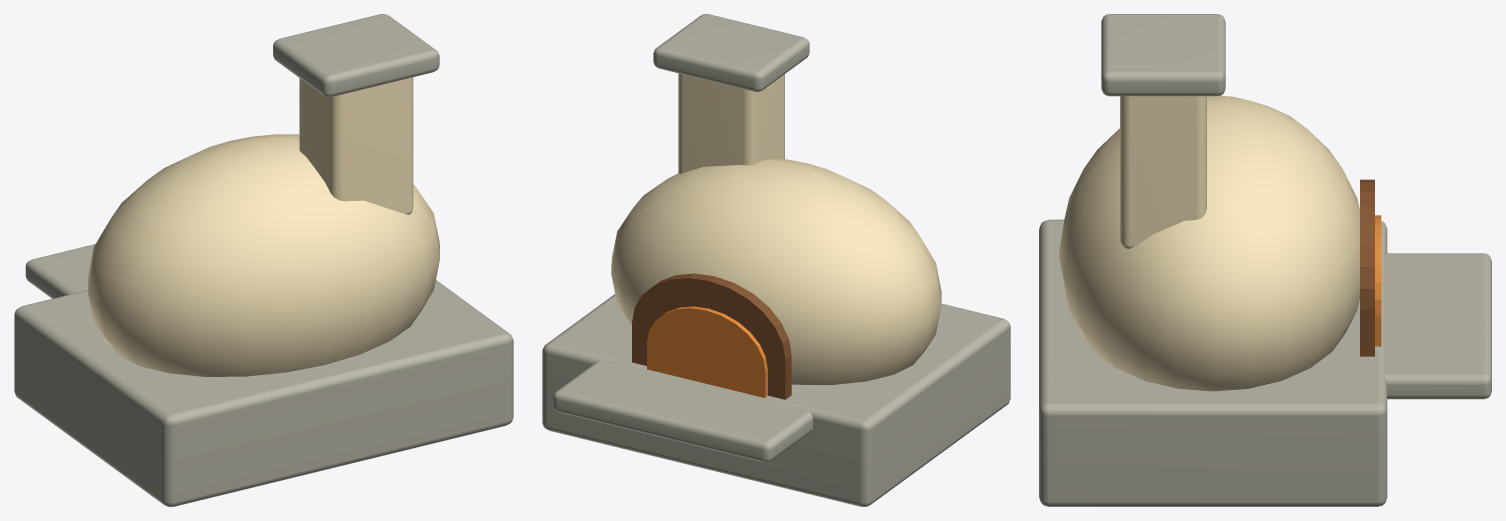
The model's file is oven.fbx.
The picture shows the model from 3 angles, left to right: view 1: azimuth 30°, elevation 25°; view 2: azimuth 150°, elevation 25°; view 3: azimuth 270°, elevation 25°; orthographic projection. The views are drawn at different scales.
Visible parts, largest first — view 1: oven; view 2: oven; view 3: oven.
Part boxes in pixels (bbox=[...]): oven: bbox=[14, 14, 513, 506]; oven: bbox=[542, 14, 1010, 506]; oven: bbox=[1039, 14, 1491, 506].
Size of the model in its own units: 2 by 2 by 2.
Materials: 1 (1 with a texture image).
